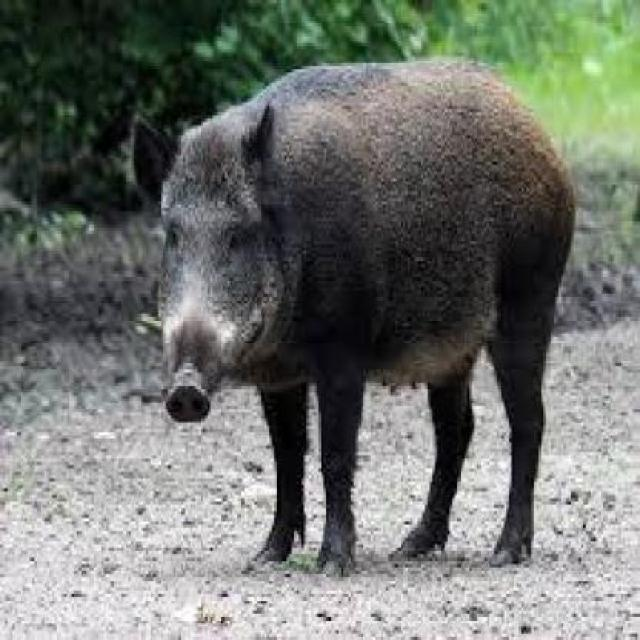wildboar: (132, 52, 579, 577)
